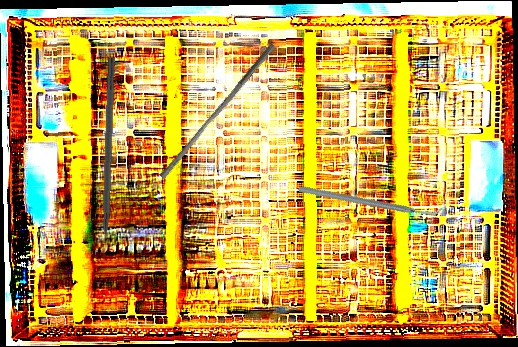Chopper: (297, 135, 445, 265)
Hook Surgical: (98, 57, 117, 267)
Pusher: (158, 38, 277, 184)
